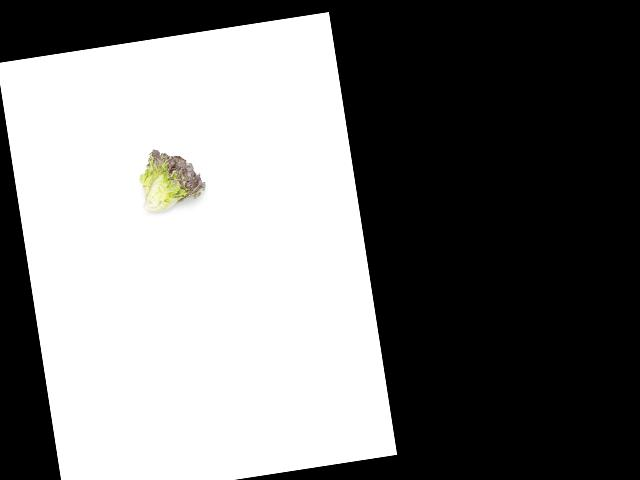lettuce: (133, 143, 212, 214)
